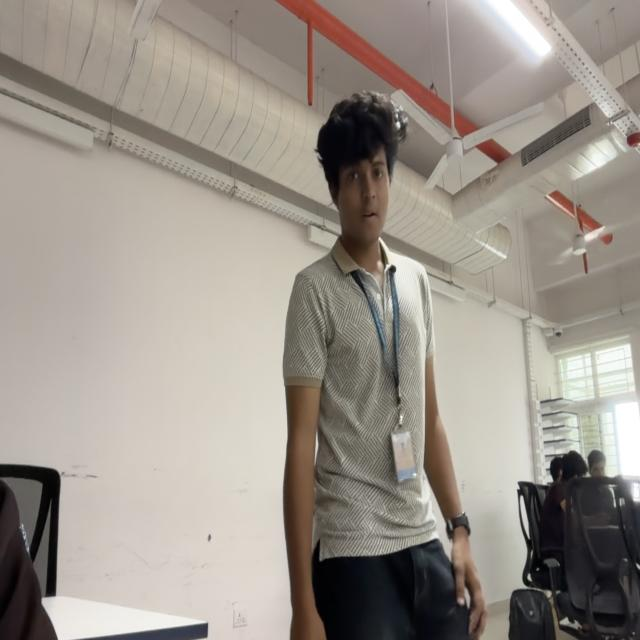kshitij: (318, 92, 403, 247)
